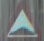Speed Breaker ahead: (4, 4, 39, 40)
